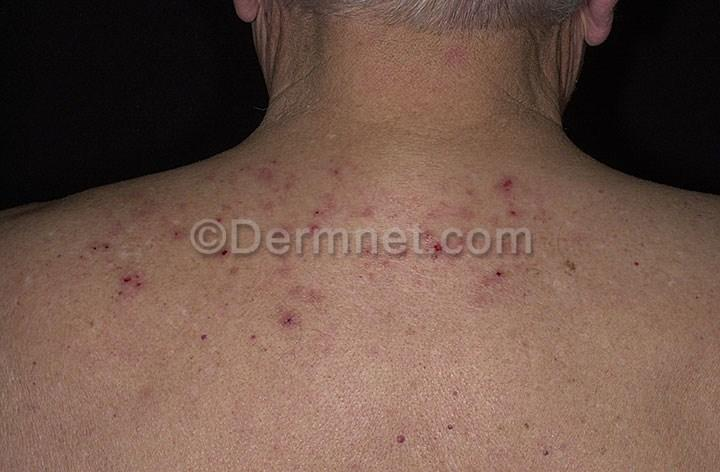Eczema: (398, 261, 554, 368), (250, 274, 359, 412), (66, 223, 193, 336), (174, 142, 338, 224), (453, 127, 589, 222), (329, 142, 455, 222)
